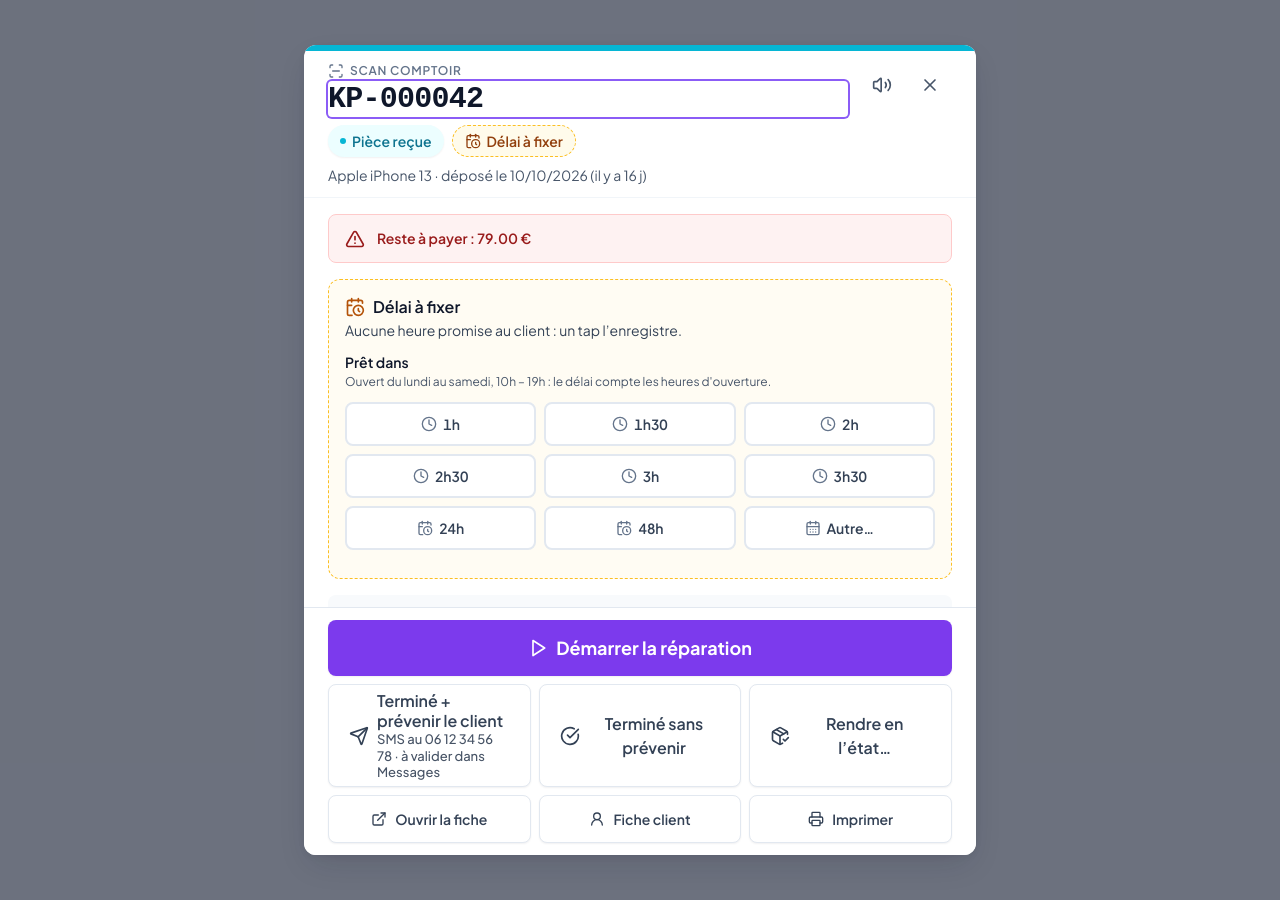
Test: QuickScanPanel : message « prêt » proposé après la fin de réparation › autre statut dans NOTIFICATIONS_STATUTS (démarrer) : message pré-rempli proposé, rien ne part seul
The width and height of the screenshot is (1280, 900).
Click the button "Démarrer la réparation". click: [640, 648]
box: [328,620,952,676]
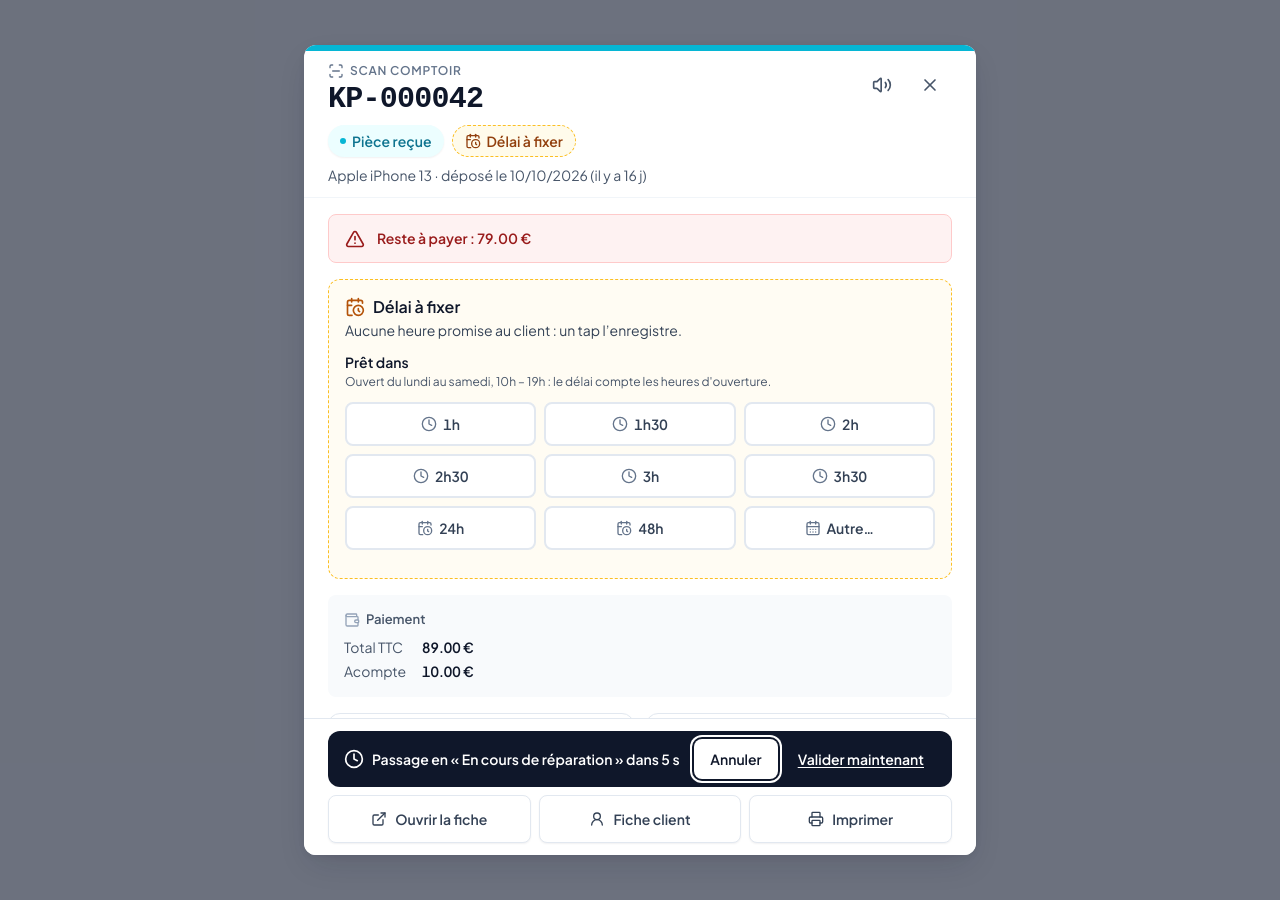
Click the button "Valider maintenant". click: [861, 759]
box: [786,739,936,779]
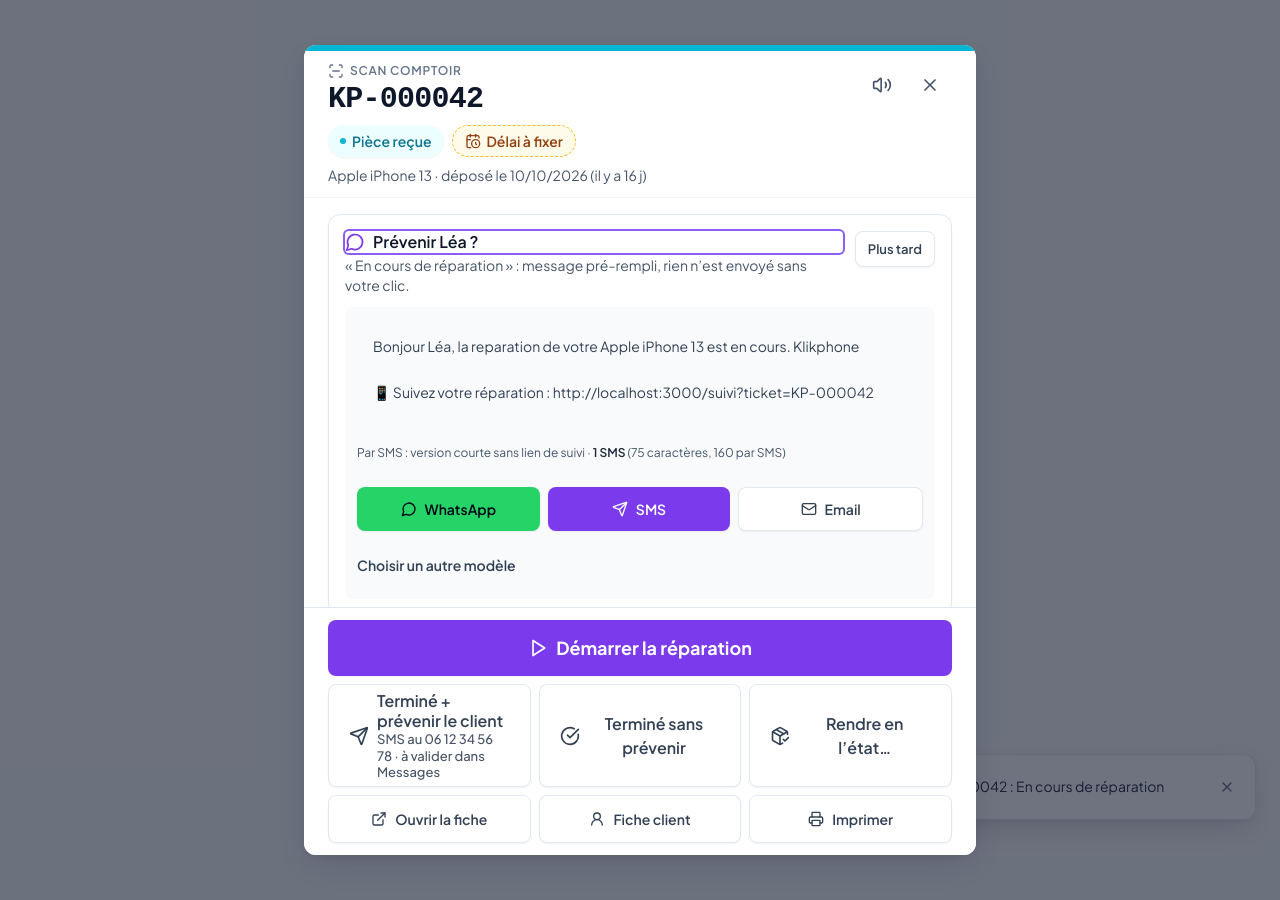
Result: the text "la reparation de votre Apple iPhone 13 est en cours" is shown 2 times
